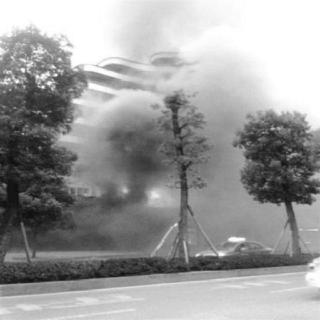Fire: (140, 168, 190, 214)
